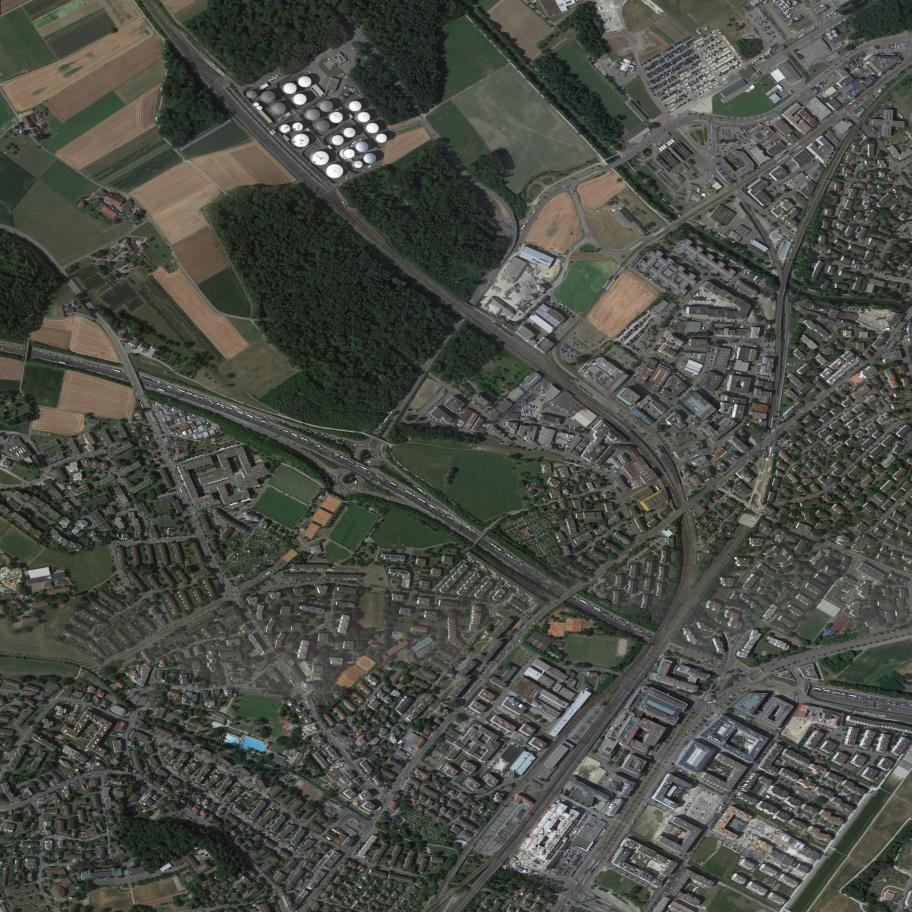storage-tank: (310, 150, 329, 166), (327, 164, 344, 179), (292, 134, 310, 148), (316, 118, 330, 132), (329, 110, 343, 124), (261, 91, 276, 103), (283, 82, 298, 94), (272, 103, 287, 115), (356, 111, 371, 123), (363, 153, 378, 165), (298, 75, 312, 87), (306, 109, 320, 121), (320, 100, 334, 112), (355, 141, 369, 153), (349, 100, 362, 112), (293, 94, 307, 105), (366, 122, 380, 133), (343, 127, 356, 138), (331, 135, 344, 146), (343, 149, 356, 159), (280, 123, 291, 134), (375, 134, 388, 143), (292, 121, 303, 131), (248, 90, 257, 99), (354, 161, 363, 169)
